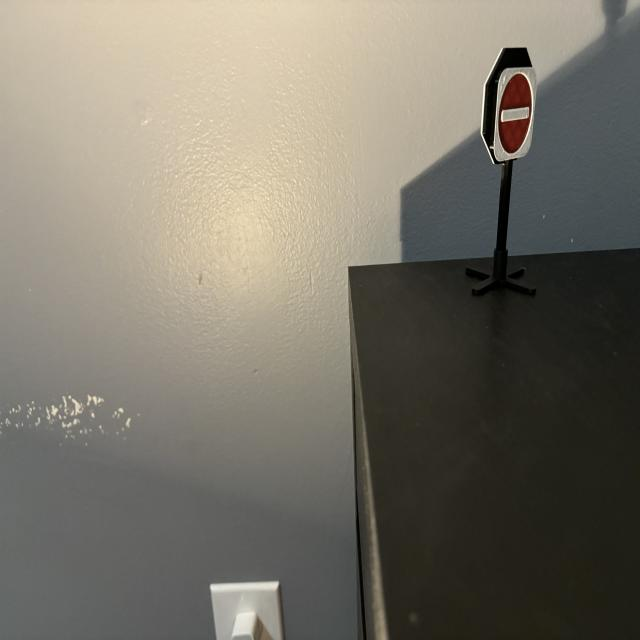sign_noentry: (495, 68, 539, 162)
